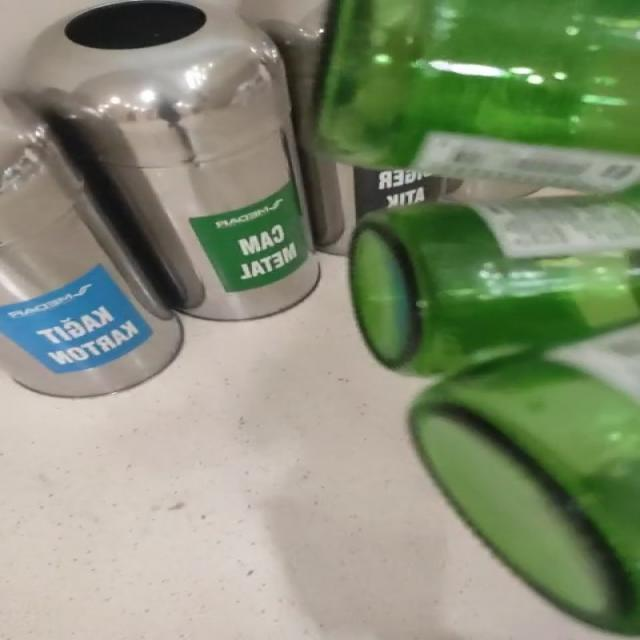glass: (317, 0, 640, 636)
